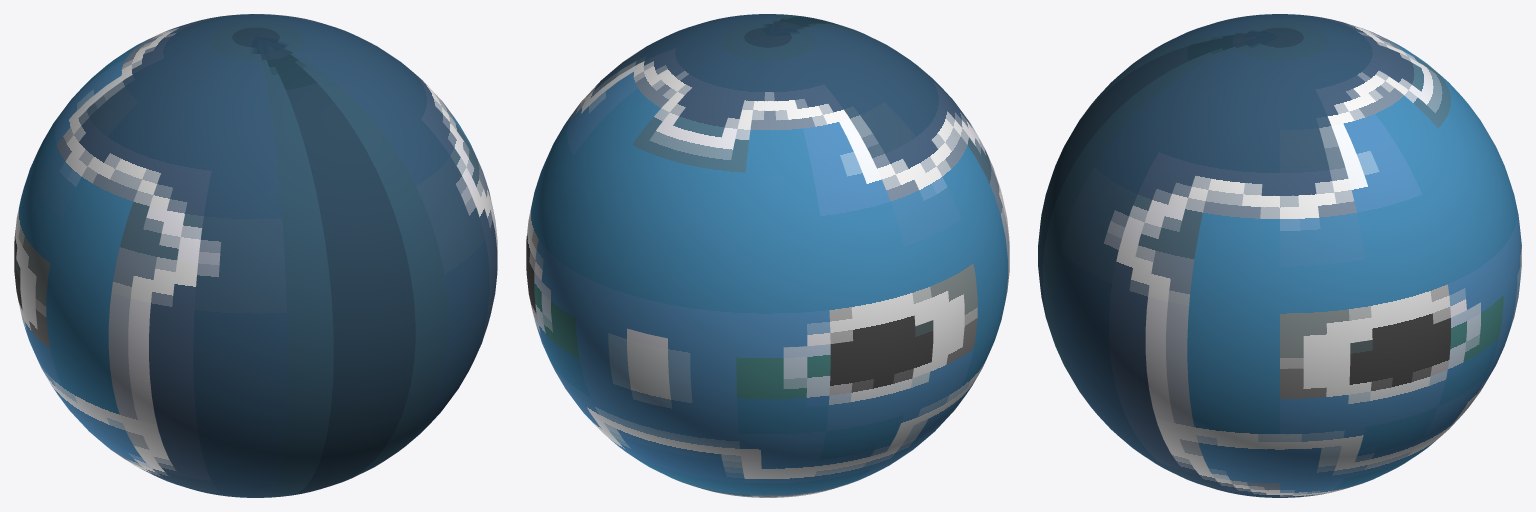
Rendered from player_mesh.gltf.
The picture shows the model from 3 angles, left to right: view 1: azimuth 30°, elevation 25°; view 2: azimuth 150°, elevation 25°; view 3: azimuth 270°, elevation 25°; orthographic projection.
Visible parts, largest first — view 1: MeshInstance; view 2: MeshInstance; view 3: MeshInstance.
Boxes of the visible parts, x1,y1,x2,y2 form: MeshInstance: [14, 14, 497, 497]; MeshInstance: [526, 14, 1009, 497]; MeshInstance: [1038, 14, 1521, 497].
Size of the model in its own units: 0.3995 by 0.4 by 0.3995.
Materials: 1 (1 with a texture image).
